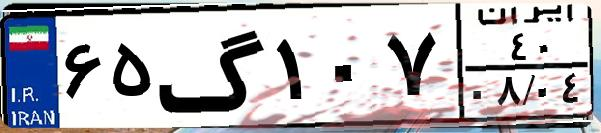0: (330, 28, 385, 110), (537, 27, 568, 80), (470, 70, 495, 125), (535, 70, 560, 125)
1: (270, 28, 330, 110)
4: (560, 70, 590, 125), (508, 27, 537, 80)
5: (110, 28, 156, 98)
6: (57, 26, 110, 100)
7: (385, 28, 445, 110)
8: (495, 70, 520, 125)
گ: (156, 12, 270, 120)
